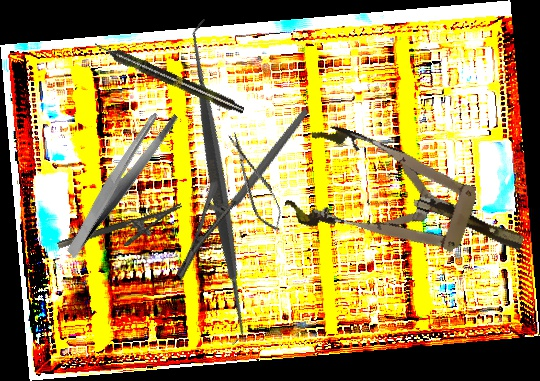Dressing Forceps: (35, 103, 205, 259)
Handpiece: (91, 37, 247, 118)
Micro Scissor: (222, 126, 288, 237)
Needle Holder: (138, 107, 348, 281), (56, 203, 189, 265)
Spatula Surgical: (54, 18, 383, 346)
Speculum: (280, 118, 539, 294)
